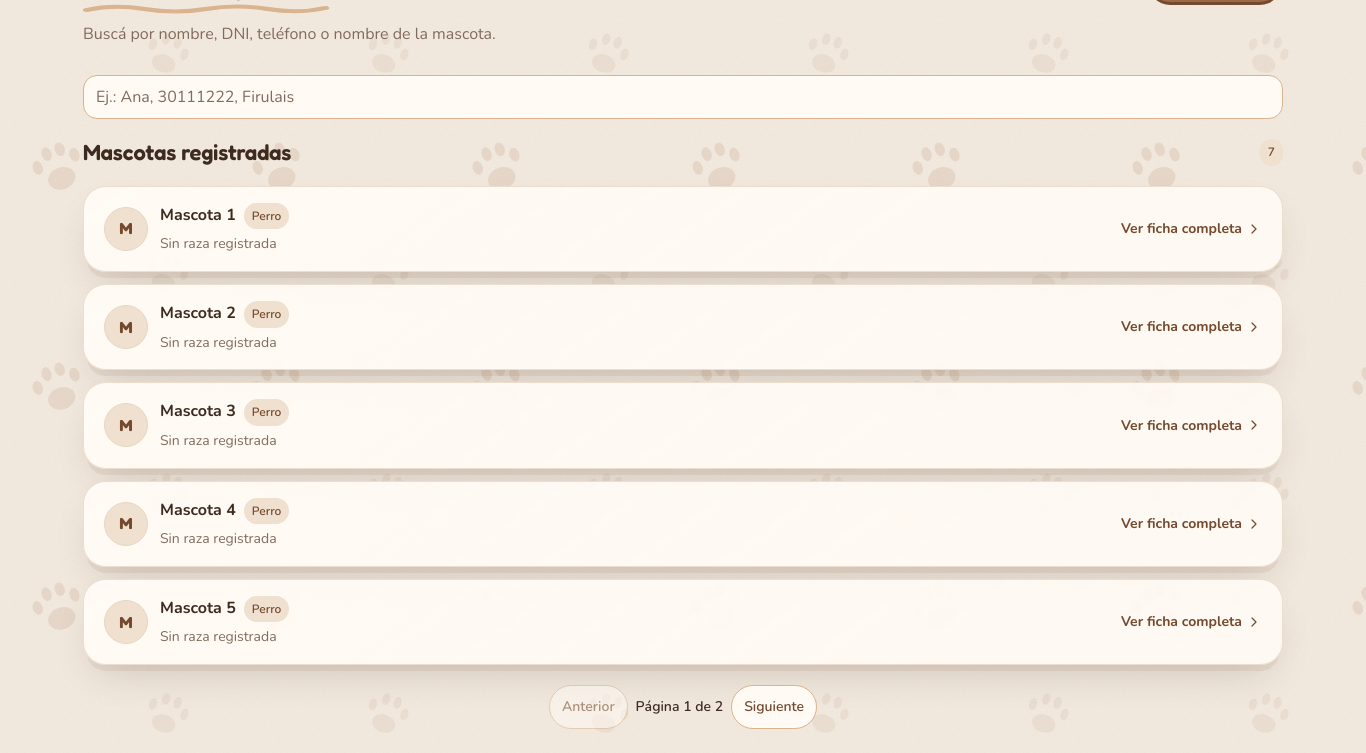
it: Buscador de padrón › pagina el listado de mascotas en grupos de cinco
(page scrolled)
Expected: the text "Mascota 1" is shown, [160,203,236,228]
Expected: the text "Mascota 6" is not shown
What coordinates should you click on to do the following:
click the button with aria-label "Página siguiente"
I would click on:
 (774, 707)
Its box is [731,685,817,729].
(page scrolled)
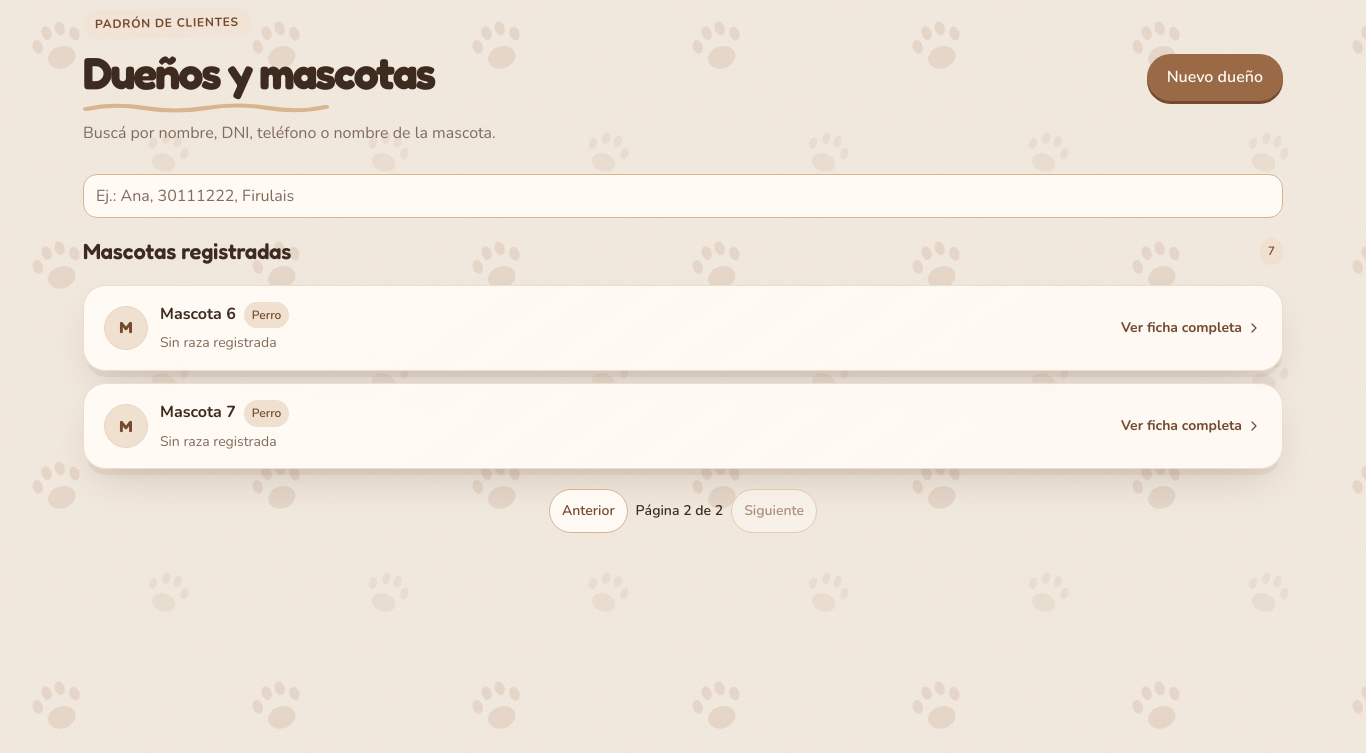
Expected: the text "Mascota 6" is shown, [160,302,236,326]
Expected: the text "Mascota 7" is shown, [160,400,236,425]
Expected: the link "Mascota 1" is gone
What coordinates should you click on to do the following:
click the button with aria-label "Página anterior"
I would click on:
 (588, 511)
Its box is [549,489,628,533].
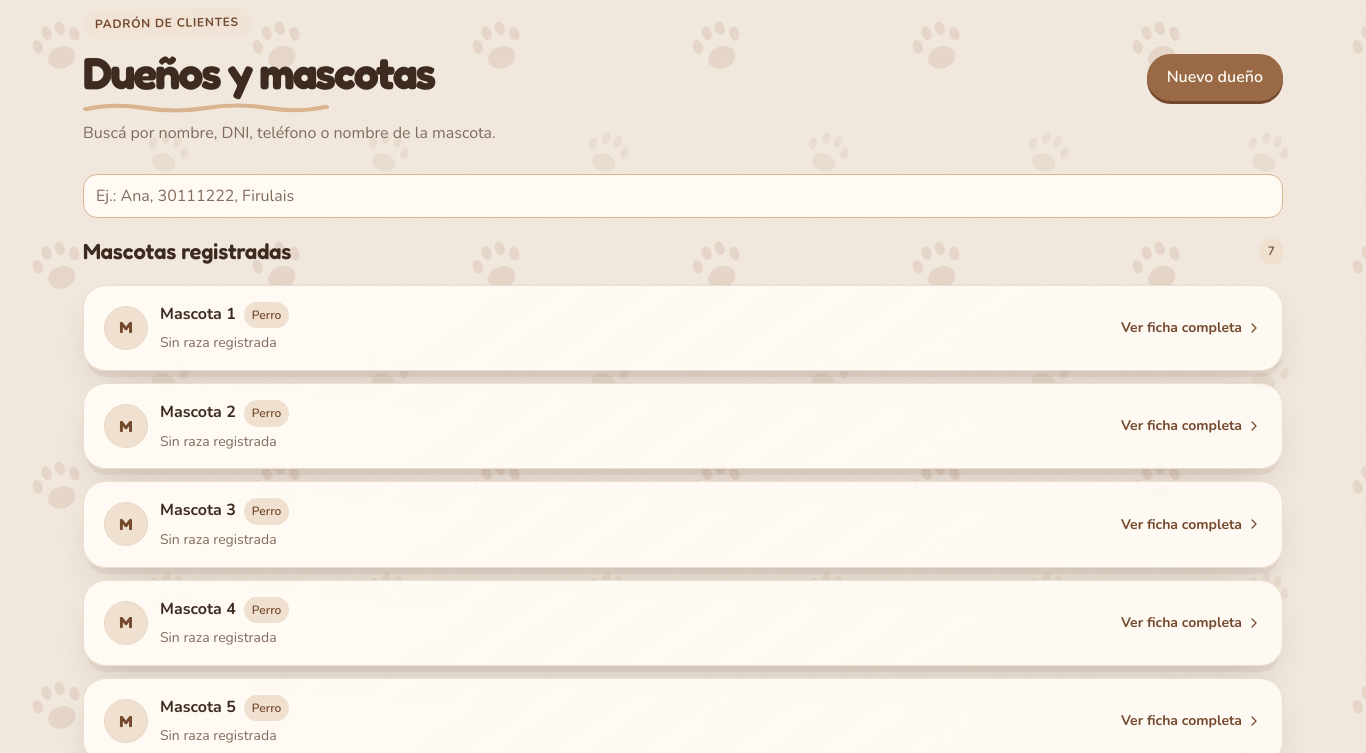
Expected: the text "Mascota 1" is shown, [160,302,236,326]
